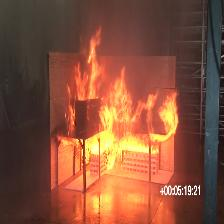fire: (62, 27, 178, 168)
